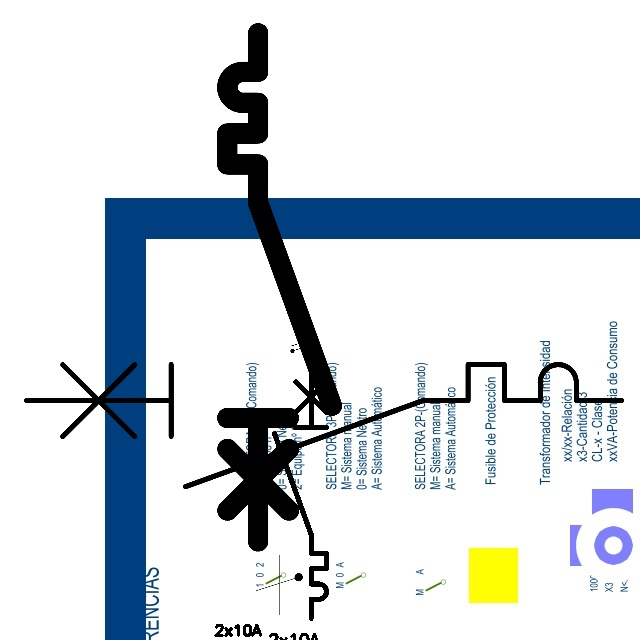interruptor_termomagnetico: (11, 349, 637, 502), (214, 20, 345, 554), (268, 359, 333, 624)
